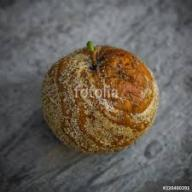apple: (40, 45, 156, 156)
